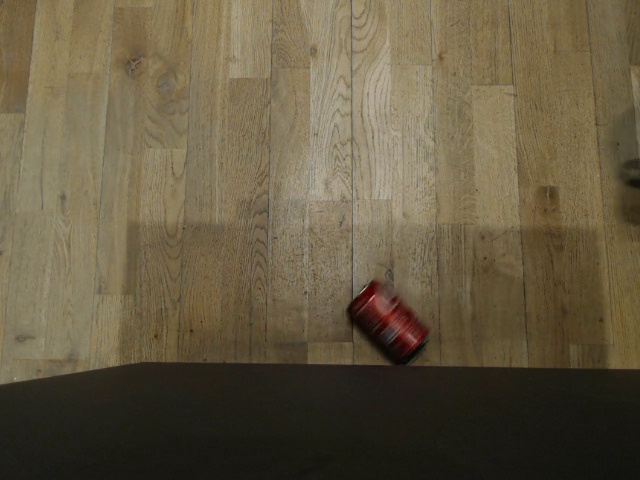coke: (344, 277, 431, 363)
